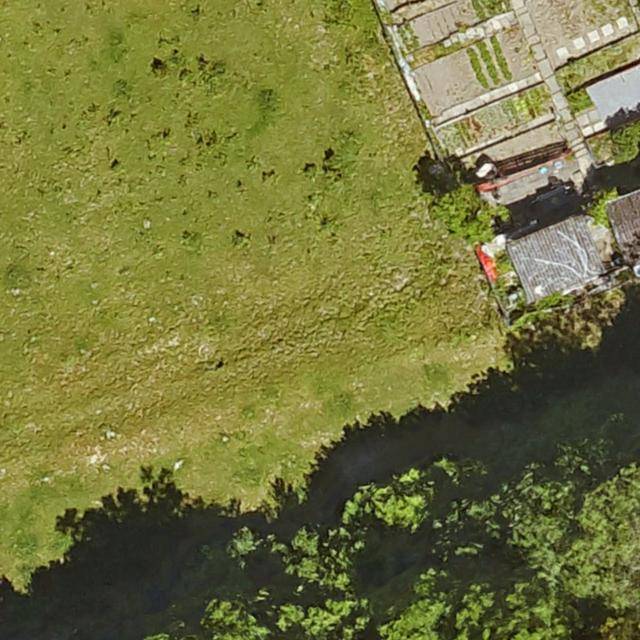tree: (160, 541, 361, 640), (490, 435, 598, 569), (340, 463, 475, 567), (381, 572, 576, 640), (573, 472, 640, 607), (429, 184, 499, 237), (609, 120, 640, 162)
